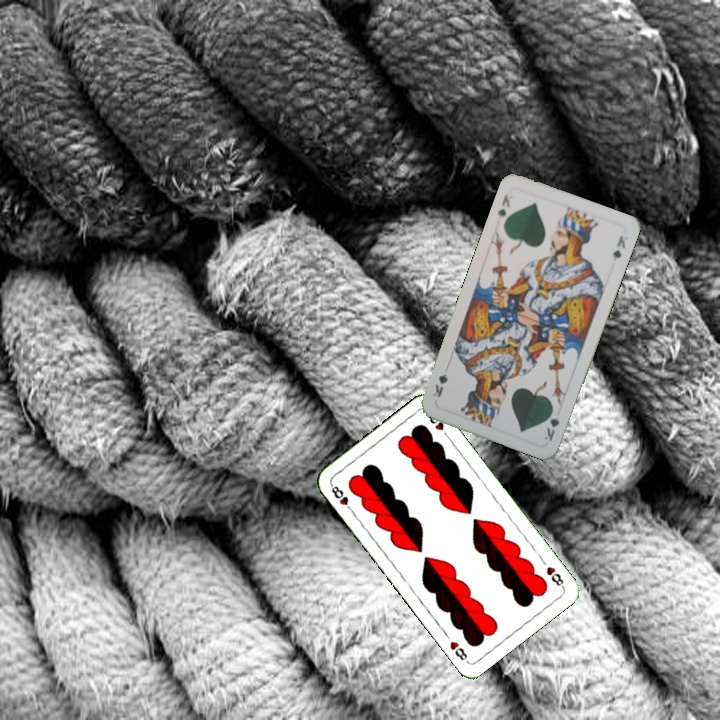GK: (540, 404, 562, 444), (494, 190, 512, 222)
H8: (326, 480, 356, 515), (542, 562, 567, 590)
